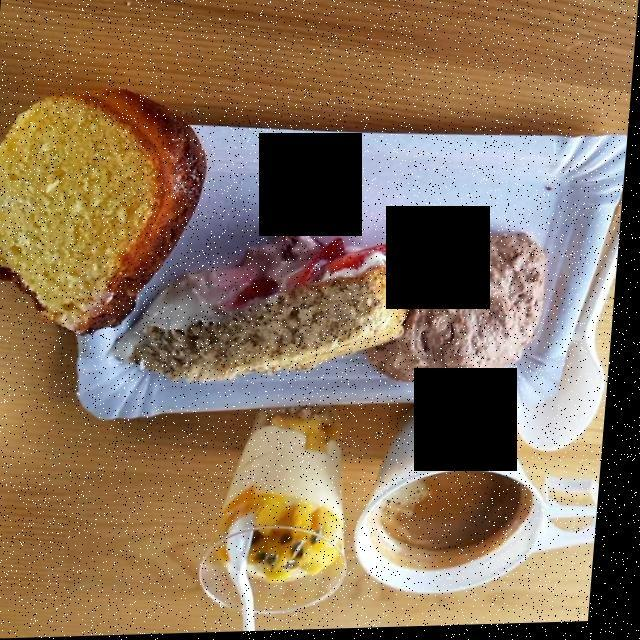cake: (0, 87, 215, 333), (109, 221, 400, 374)
chocolate-mousse: (362, 234, 547, 404)
coffee: (374, 472, 520, 570)
mango: (207, 486, 349, 594)
yogurt: (209, 429, 341, 585)
